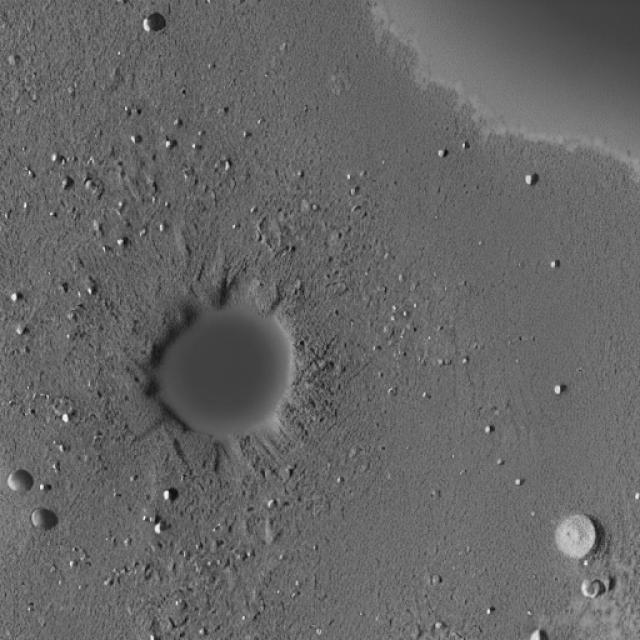crater: (146, 290, 294, 442)
